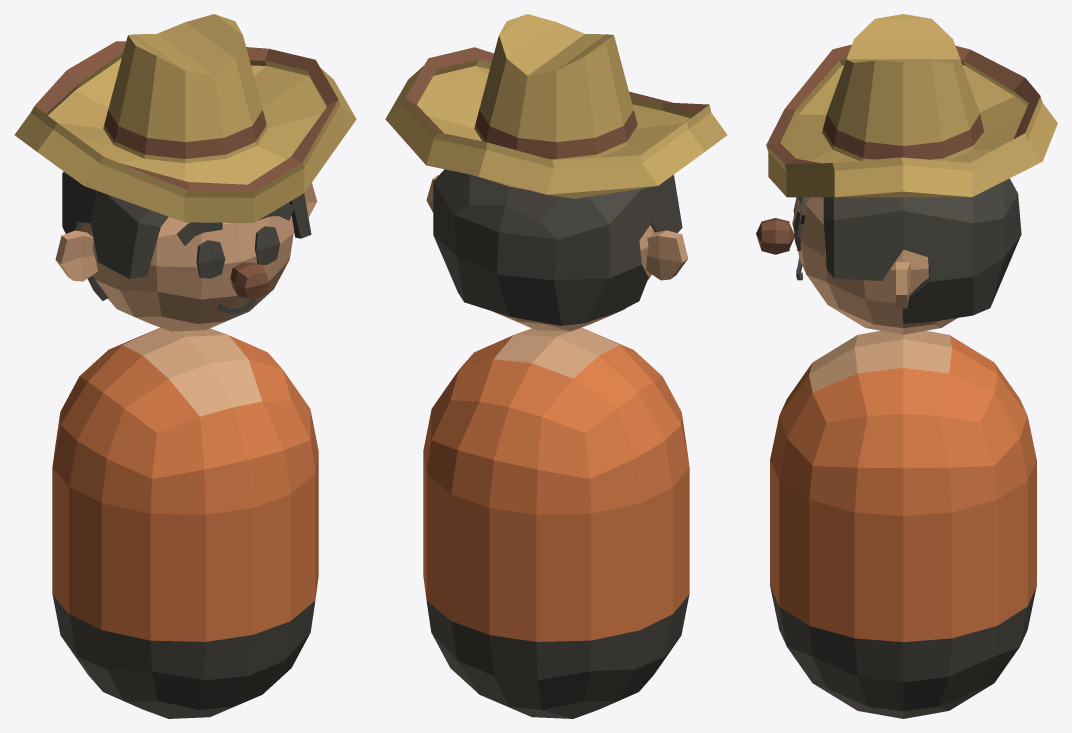
File: Player Cowok.fbx
The picture shows the model from 3 angles, left to right: view 1: azimuth 30°, elevation 25°; view 2: azimuth 150°, elevation 25°; view 3: azimuth 270°, elevation 25°; orthographic projection.
Parts seen in each view (by area): view 1: Tubuh Cowok, Kepala Cowok; view 2: Tubuh Cowok, Kepala Cowok; view 3: Tubuh Cowok, Kepala Cowok.
Part boxes in pixels (x1,y1,x2,y2): Tubuh Cowok: (52,327,318,718); Kepala Cowok: (14,14,356,331); Tubuh Cowok: (423,327,689,718); Kepala Cowok: (385,14,727,331); Tubuh Cowok: (770,330,1036,718); Kepala Cowok: (756,14,1057,334).
Bounding box in the file's own units: 0.9778 × 2.12 × 0.8692.
1 material, 1 textured.
